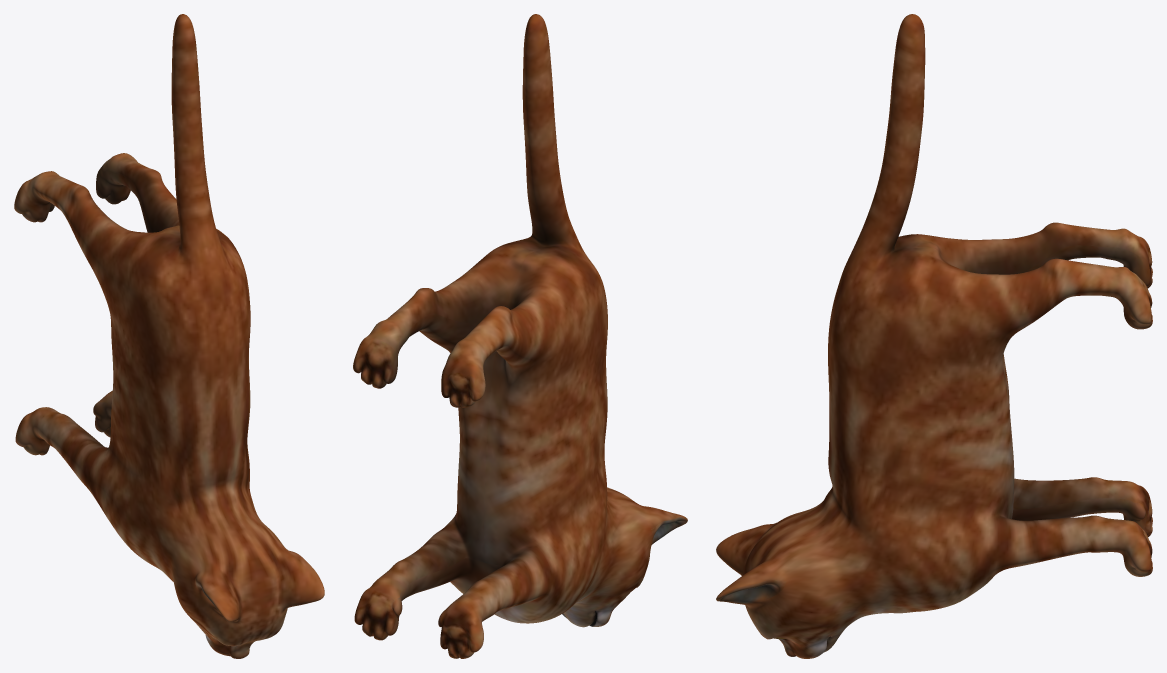
Rendered from CAT.OBJ.
The picture shows the model from 3 angles, left to right: view 1: azimuth 30°, elevation 25°; view 2: azimuth 150°, elevation 25°; view 3: azimuth 270°, elevation 25°; orthographic projection. The views are drawn at different scales.
Visible parts, largest first — view 1: Cat; view 2: Cat; view 3: Cat.
Boxes of the visible parts, x1,y1,x2,y2 form: Cat: (14,14,324,658); Cat: (353,14,687,658); Cat: (716,14,1152,658).
Size of the model in its own units: 12.56 by 60.88 by 37.61.
1 material, 1 textured.
